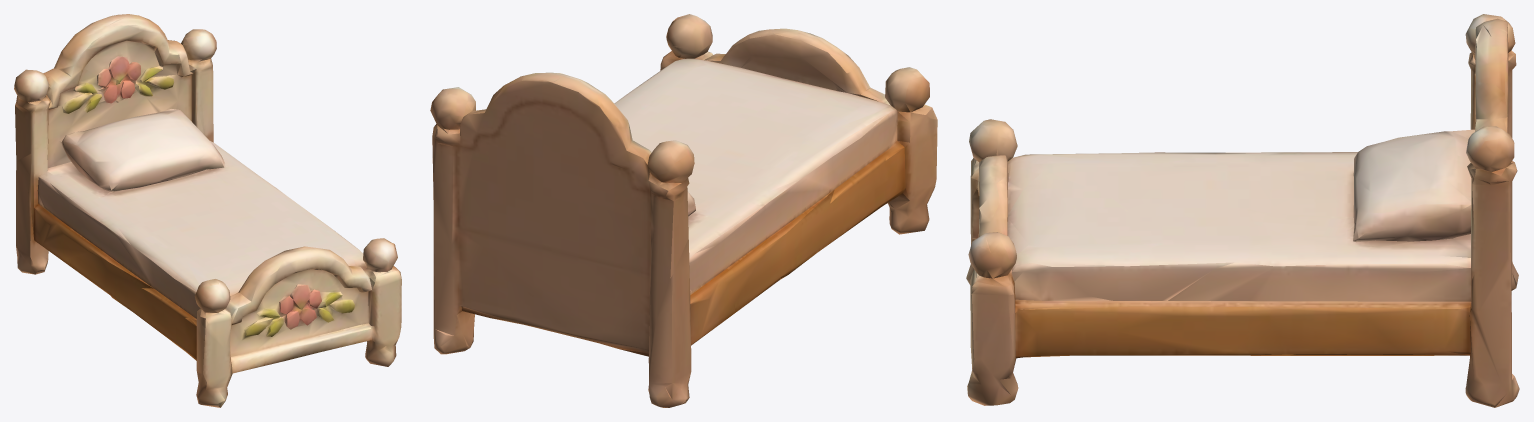
File: bed10.glb
3 renders of one model, left to right at view 1: azimuth 30°, elevation 25°; view 2: azimuth 150°, elevation 25°; view 3: azimuth 270°, elevation 25°, orthographic. The views are drawn at different scales.
Bounding box in the file's own units: 0.1721 × 0.1892 × 0.2998.
Materials: 1 (1 with a texture image).
